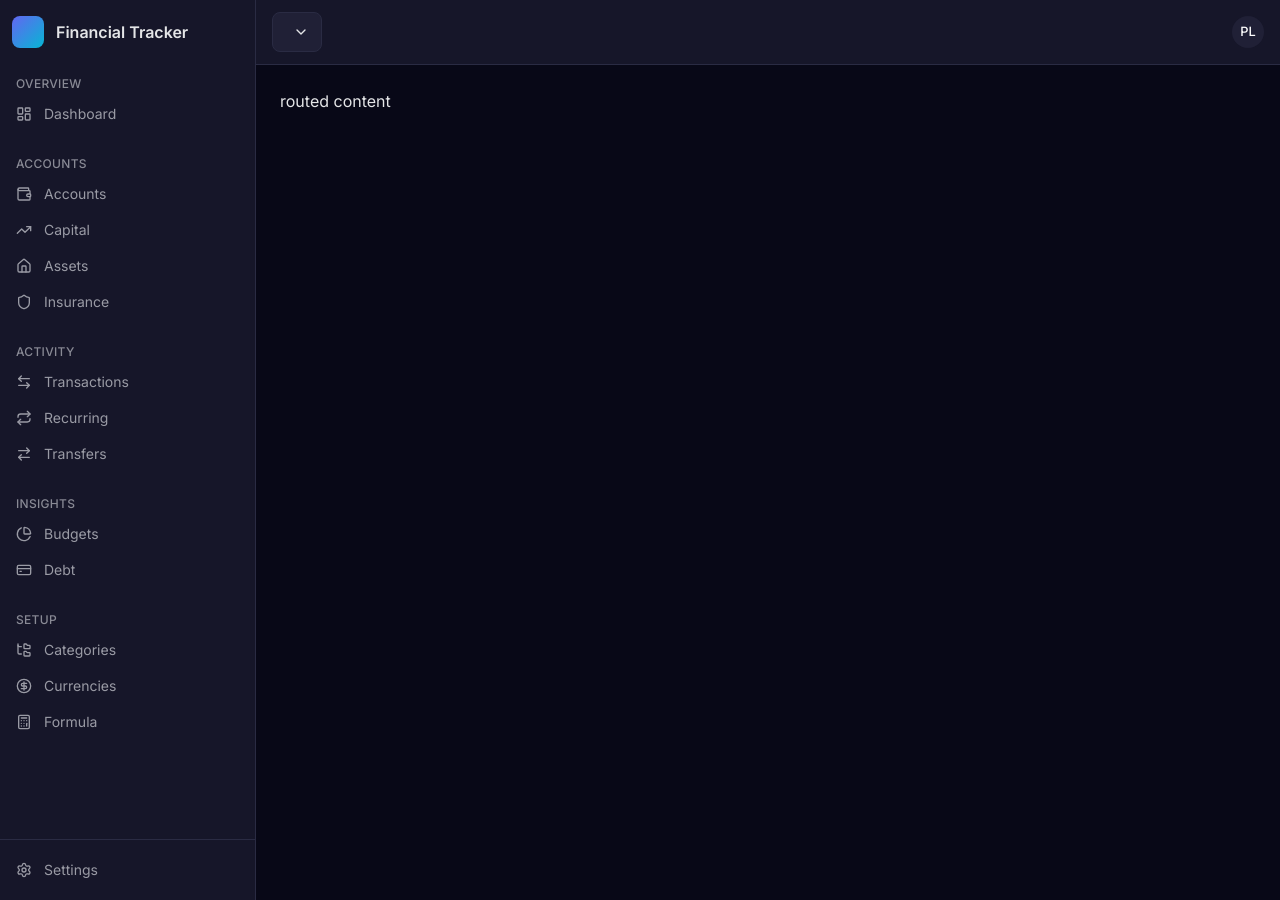
it: topbar avatar menu opens to Profile + Sign out (the sole user menu)
The width and height of the screenshot is (1280, 900).
Click the button named "Pat Lee": point(1248, 30) [1232,20,1264,40]
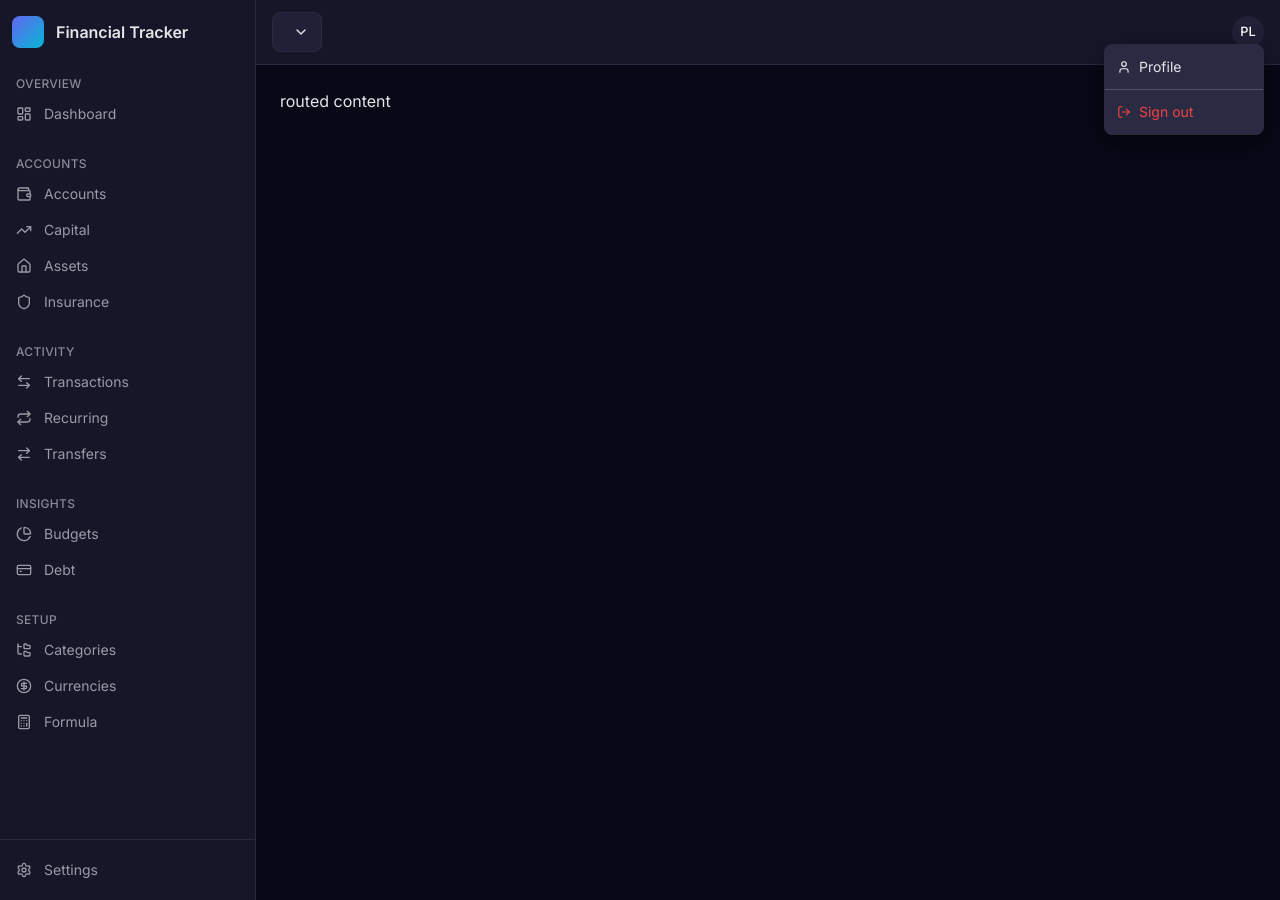
Now the menu item "Profile" is shown, box [1105,49,1263,85]
Now the menu item "Sign out" is shown, box [1105,94,1263,130]
